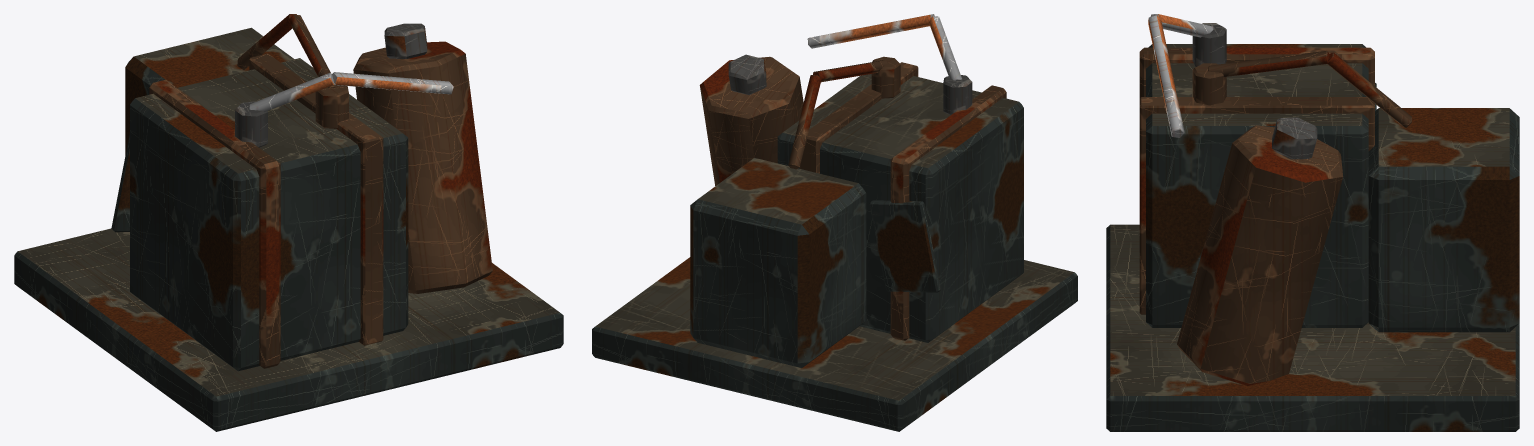
Rendered from R4X_Battery_LOD1.glb.
3 renders of one model, left to right at view 1: azimuth 30°, elevation 25°; view 2: azimuth 150°, elevation 25°; view 3: azimuth 270°, elevation 25°, orthographic. The views are drawn at different scales.
Parts seen in each view (by area): view 1: R4X_Battery_LOD1; view 2: R4X_Battery_LOD1; view 3: R4X_Battery_LOD1.
Part boxes in pixels (x1,y1,x2,y2): R4X_Battery_LOD1: (14, 14, 563, 431); R4X_Battery_LOD1: (592, 14, 1077, 431); R4X_Battery_LOD1: (1106, 14, 1519, 431).
Bounding box in the file's own units: 0.52 × 0.4377 × 0.52.
5 materials, 5 textured.
